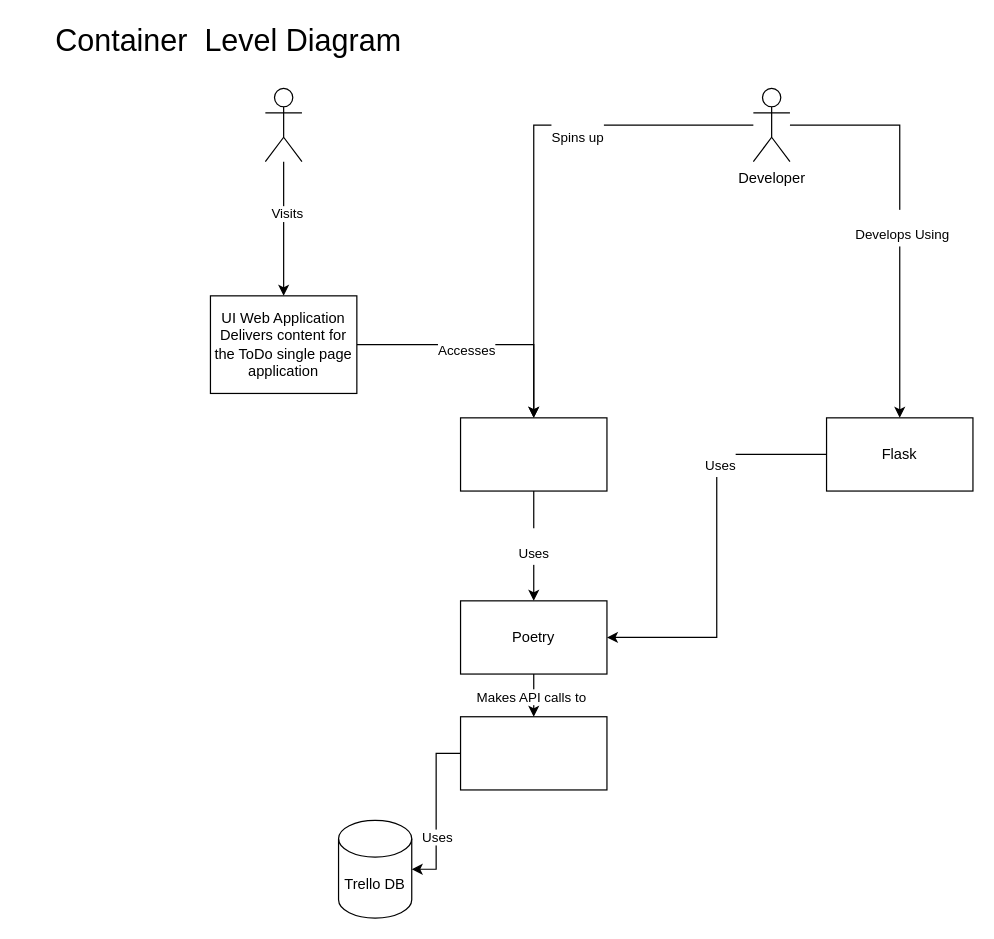
Some shapes in this 994 by 939 pixel diagram are drawn without their labels. Here are the shapes that lost their labels. From the top down, the centre of each, then its label:
At (283,124): "User".
At (533,454): "Gunicorn".
At (533,753): "Trello".
